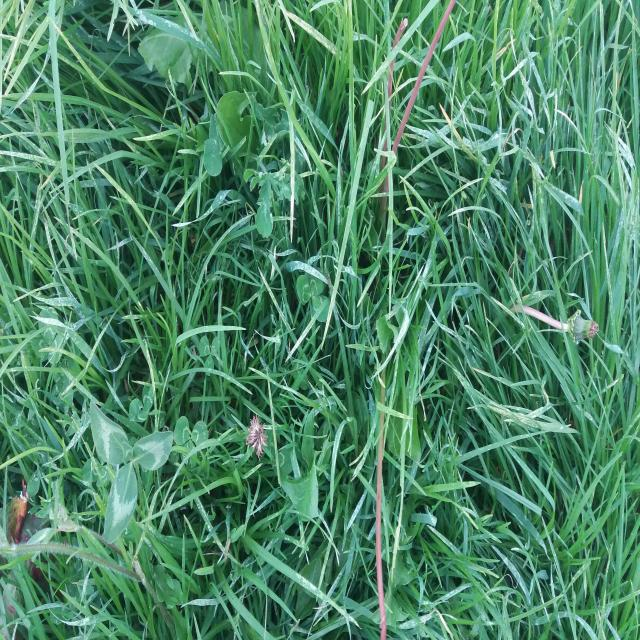Four Leaf Clover: (89, 400, 173, 544)
